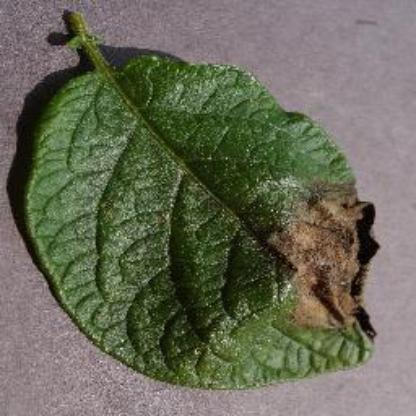Late-Blight: (15, 12, 396, 392)
